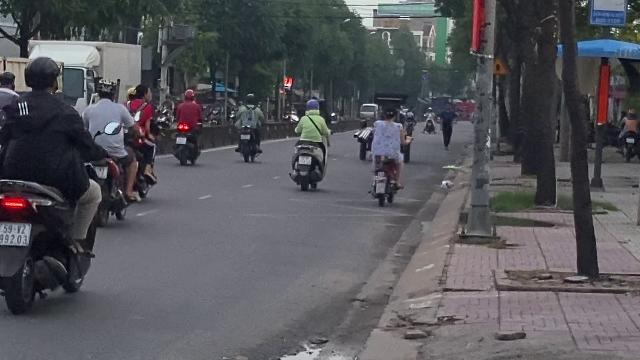helmet: (23, 56, 61, 92), (95, 77, 116, 103)
licenseplate: (0, 222, 30, 246)
motorcyclist: (1, 54, 107, 314), (80, 77, 142, 225)
